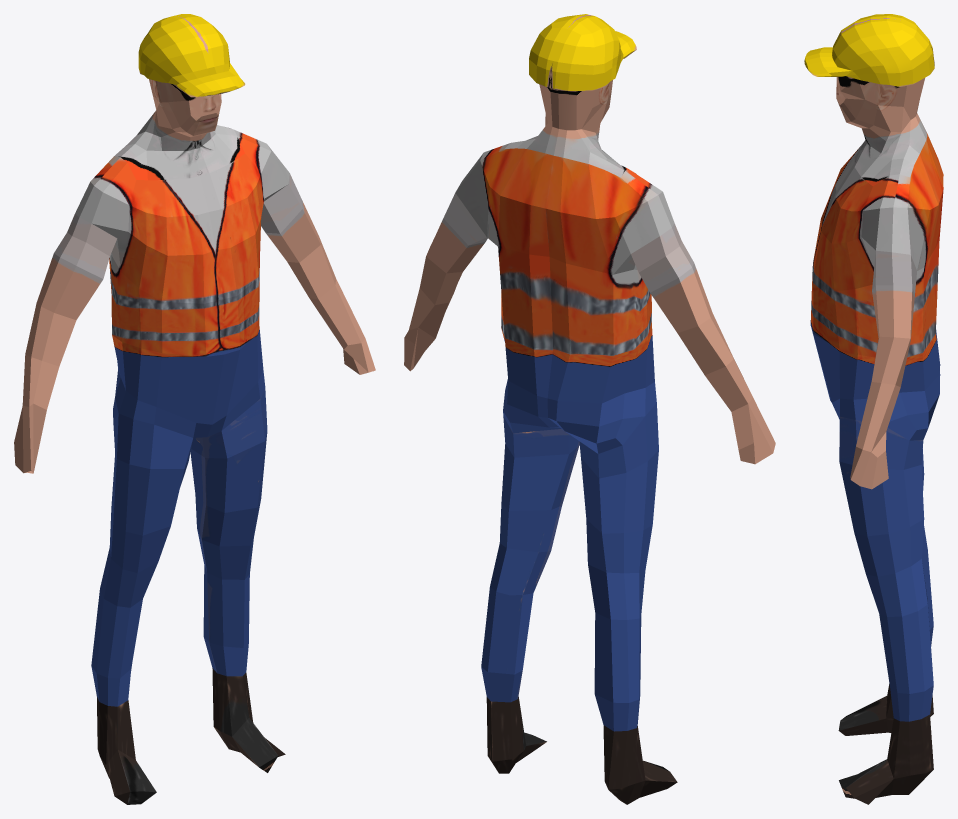
File: LOWPOLYMAN.obj
3 renders of one model, left to right at view 1: azimuth 30°, elevation 25°; view 2: azimuth 150°, elevation 25°; view 3: azimuth 270°, elevation 25°, orthographic.
Parts seen in each view (by area): view 1: humanBody3:humanBody_1 group1; view 2: humanBody3:humanBody_1 group1; view 3: humanBody3:humanBody_1 group1.
Part boxes in pixels (<box>): humanBody3:humanBody_1 group1: <box>14,14,375,804</box>; humanBody3:humanBody_1 group1: <box>404,14,775,804</box>; humanBody3:humanBody_1 group1: <box>804,14,943,804</box>.
Bounding box in the file's own units: 90.57 × 184 × 31.02.
